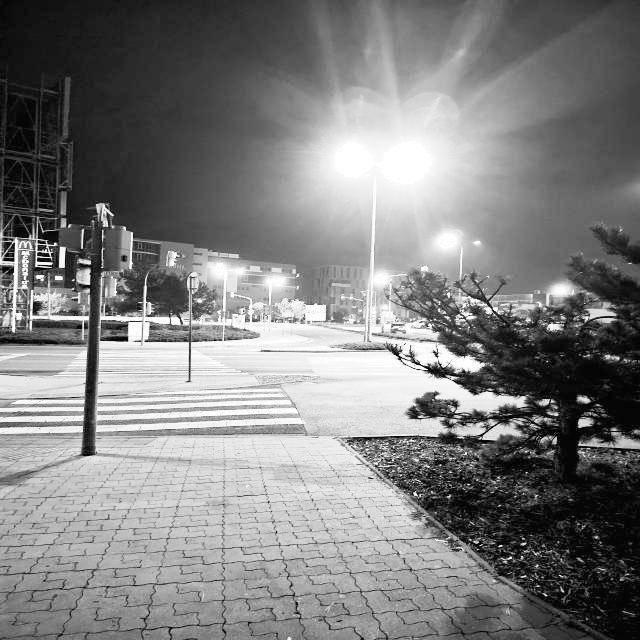Light: (338, 143, 421, 342), (210, 261, 248, 332), (373, 264, 398, 315), (261, 272, 284, 307)
Tree: (436, 266, 621, 480)
